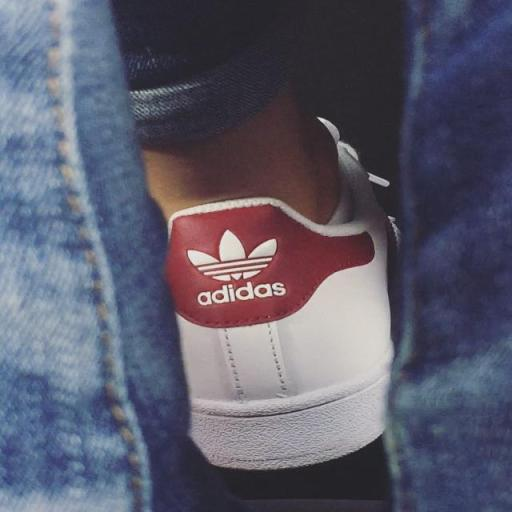Adidas: (184, 226, 288, 308)
